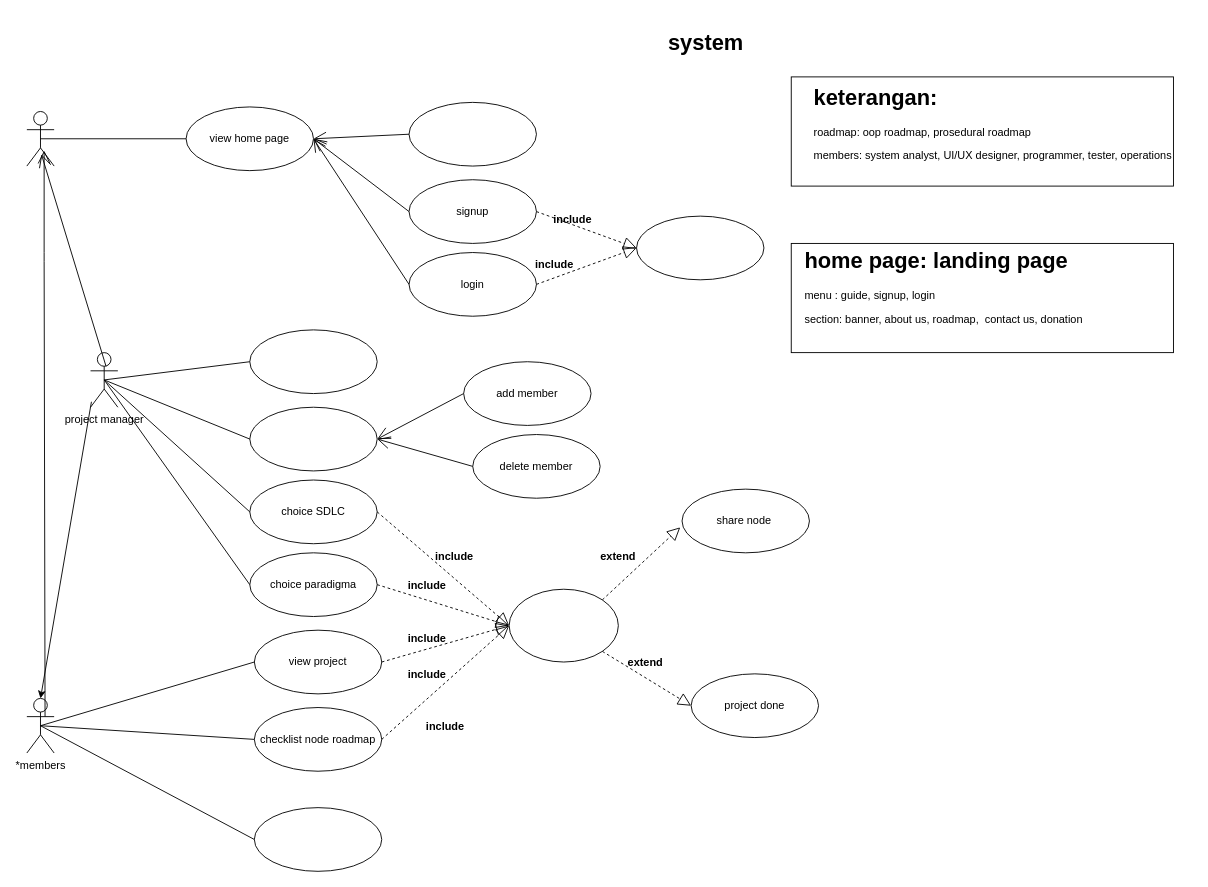
Some shapes in this 1208 by 887 pixel diagram are drawn without their labels. The shapes that lost their labels are listed below. From the top down, each one's centre as x and y in pixels, then its label:
(40,138): guest
(472,133): view guide
(700,247): validate data
(313,361): create project
(313,438): manage member
(563,625): roadmap state
(317,839): logout
